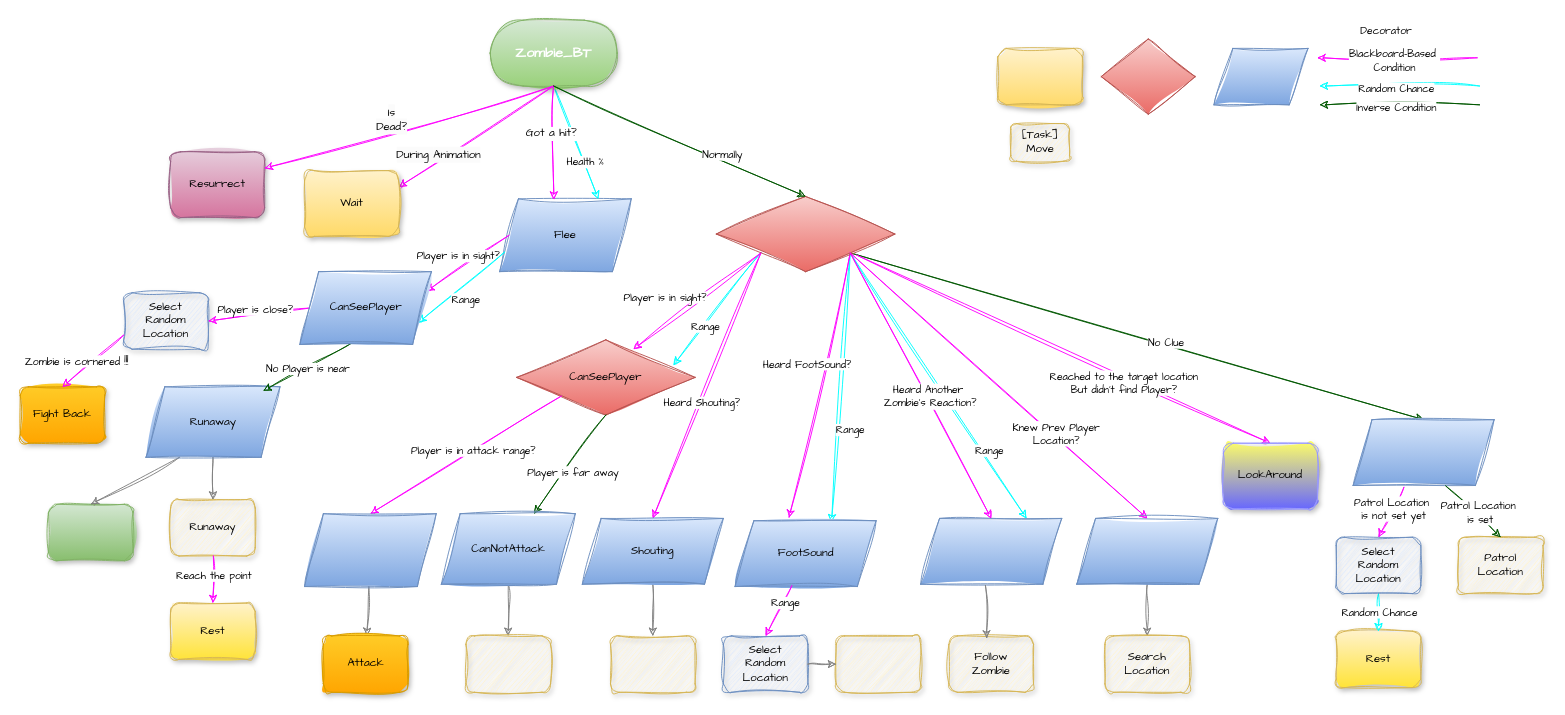
Image size: 1565x715. Some labels were removed from this diagram. The shapes that lost their labels are listed below. From the top down, each one's centre as x and y in pixels, then its label:
[1040,77]: Task
[1147,76]: Selector
[1260,76]: Sequence
[805,234]: Detect
[1423,452]: Patrol
[91,533]: Health Regenerate
[370,550]: CanAttack
[991,550]: HordeAction
[1147,550]: Investigaed
[508,665]: Chase Player
[653,665]: Search Shouting
[878,665]: Search Sound
